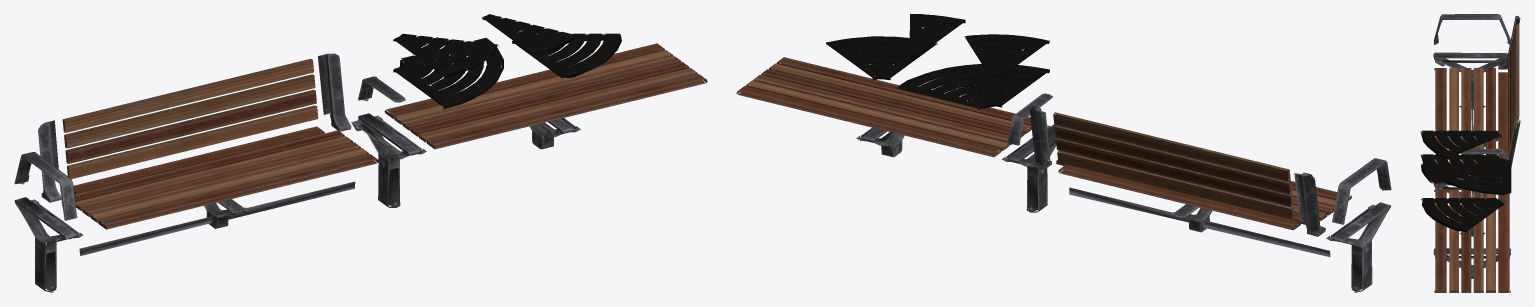
Rendered from street_seating.glb.
The picture shows the model from 3 angles, left to right: view 1: azimuth 30°, elevation 25°; view 2: azimuth 150°, elevation 25°; view 3: azimuth 270°, elevation 25°; orthographic projection. The views are drawn at different scales.
Parts seen in each view (by area): view 1: street_seating; view 2: street_seating; view 3: street_seating.
Part boxes in pixels (x1,y1,x2,y2): street_seating: [14, 14, 707, 292]; street_seating: [736, 14, 1391, 292]; street_seating: [1420, 14, 1520, 292].
Bounding box in the file's own units: 4.34 × 0.9519 × 0.7725.
5 materials, 5 textured.
